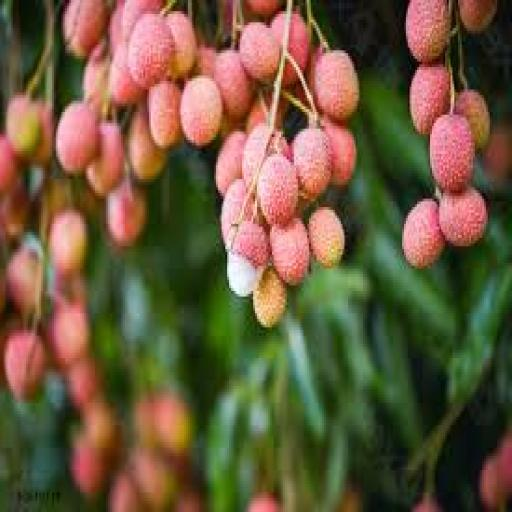lychee: (126, 14, 172, 89), (430, 115, 473, 193), (314, 51, 358, 123), (55, 101, 97, 173), (242, 124, 289, 187), (3, 331, 45, 400), (180, 76, 220, 148), (256, 154, 296, 226), (402, 199, 443, 268), (85, 121, 123, 195), (128, 107, 166, 181), (409, 65, 449, 134), (292, 129, 330, 201), (439, 188, 486, 246), (405, 0, 449, 61), (106, 182, 146, 249), (269, 219, 309, 285), (214, 51, 252, 120), (48, 210, 86, 276), (63, 0, 106, 58), (219, 180, 254, 249), (50, 303, 88, 366), (5, 247, 41, 313), (322, 118, 356, 187), (154, 392, 190, 456), (147, 82, 181, 148), (107, 42, 142, 106), (240, 23, 278, 81), (307, 208, 343, 268), (5, 96, 39, 159), (70, 437, 106, 495), (165, 12, 196, 78), (454, 90, 488, 148), (253, 266, 285, 327), (214, 132, 244, 195), (229, 222, 268, 268), (67, 356, 99, 411), (81, 48, 108, 111), (121, 0, 162, 39), (107, 471, 144, 511), (478, 457, 505, 509), (286, 12, 308, 72), (458, 0, 496, 33), (0, 138, 17, 193), (195, 45, 216, 78), (247, 493, 280, 511), (245, 0, 280, 16), (413, 496, 440, 511)
